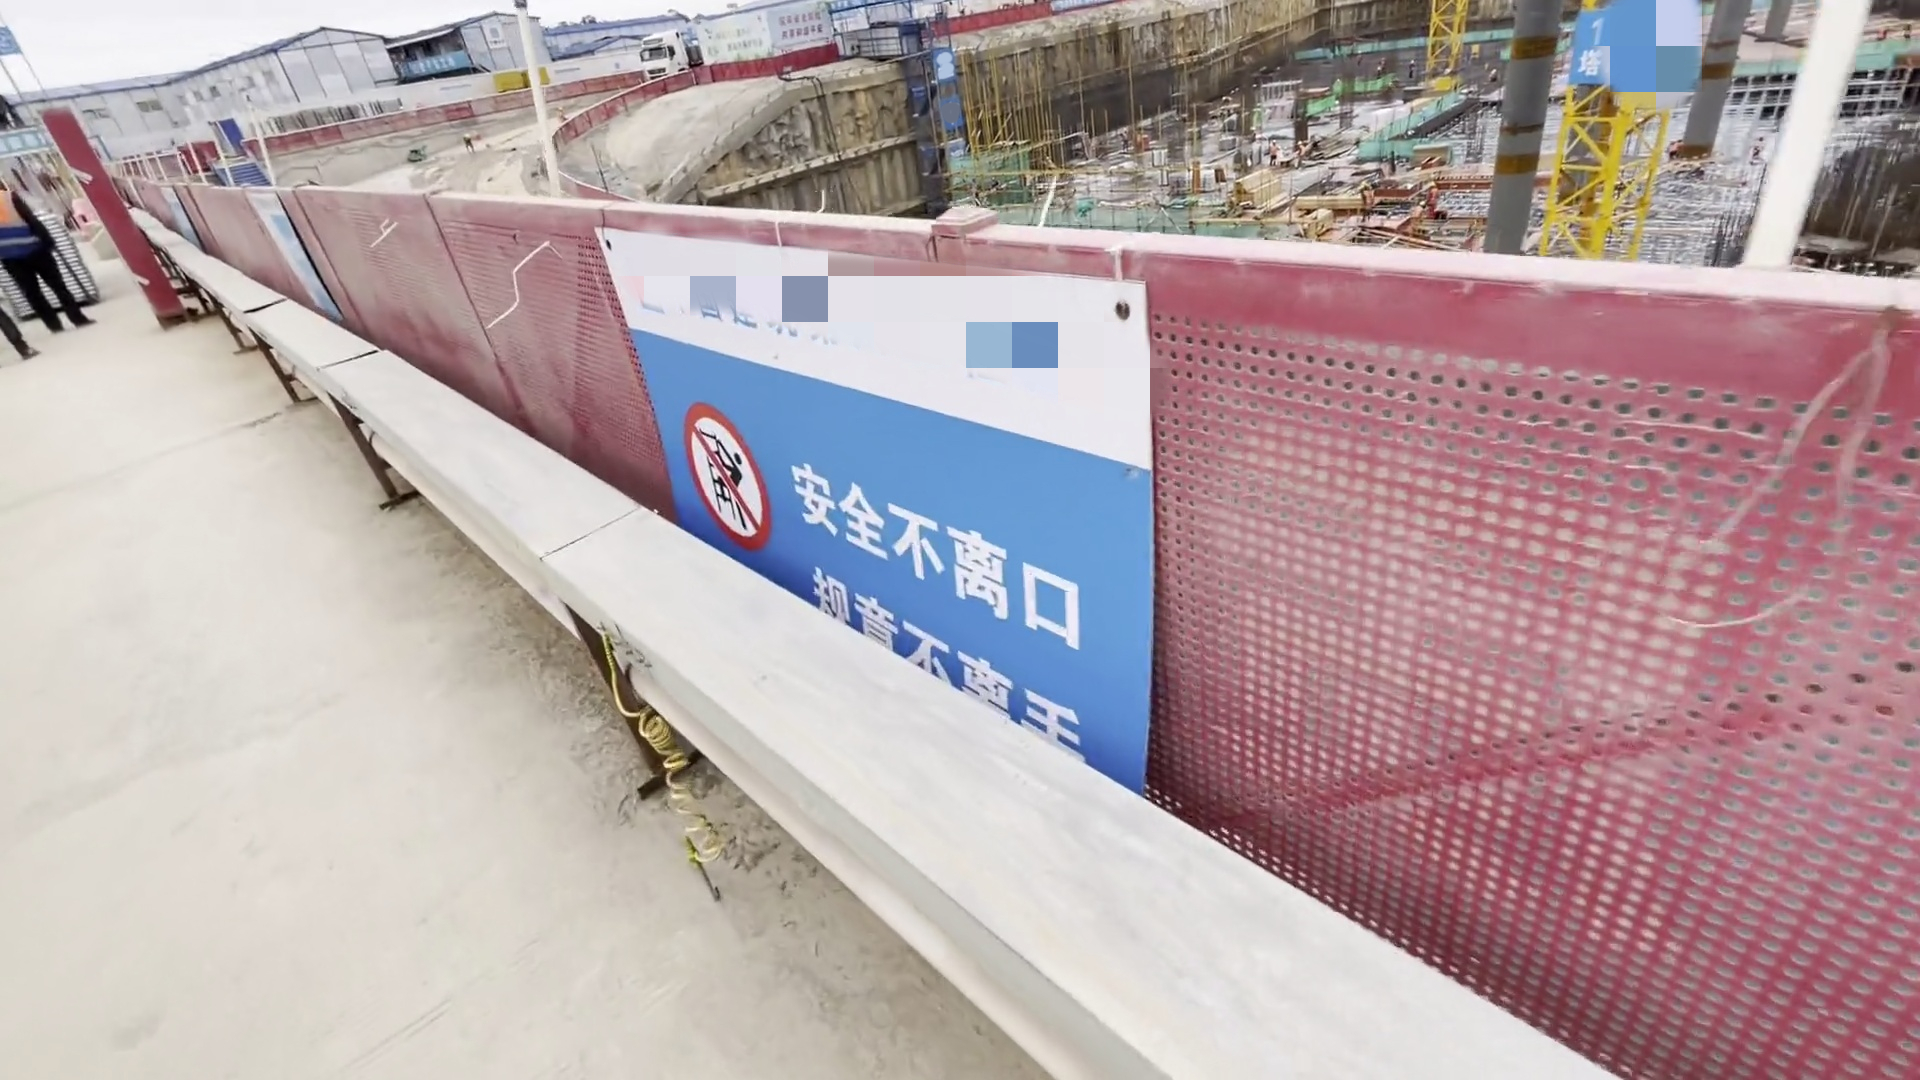fence: (26, 111, 1610, 927)
slogan: (628, 266, 1124, 738)
